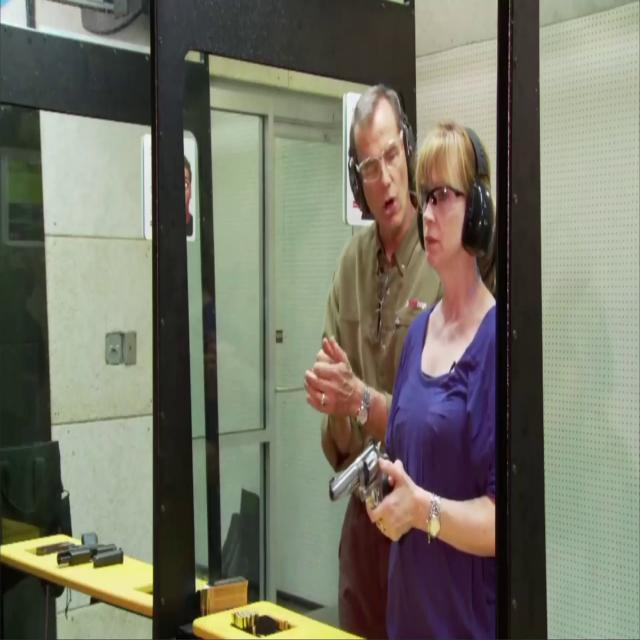Gun: (328, 438, 392, 514)
